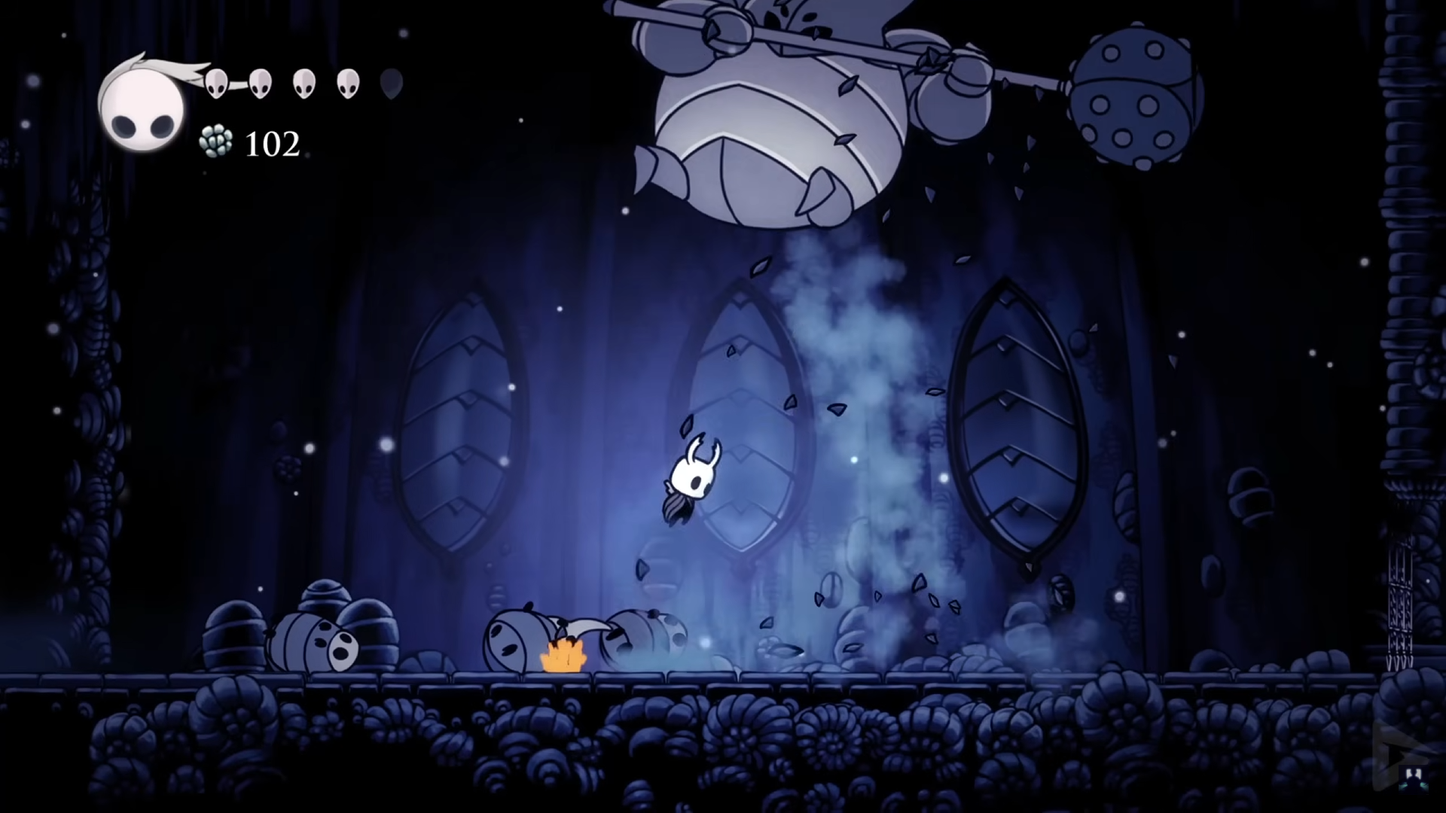HK: (660, 428, 727, 531)
